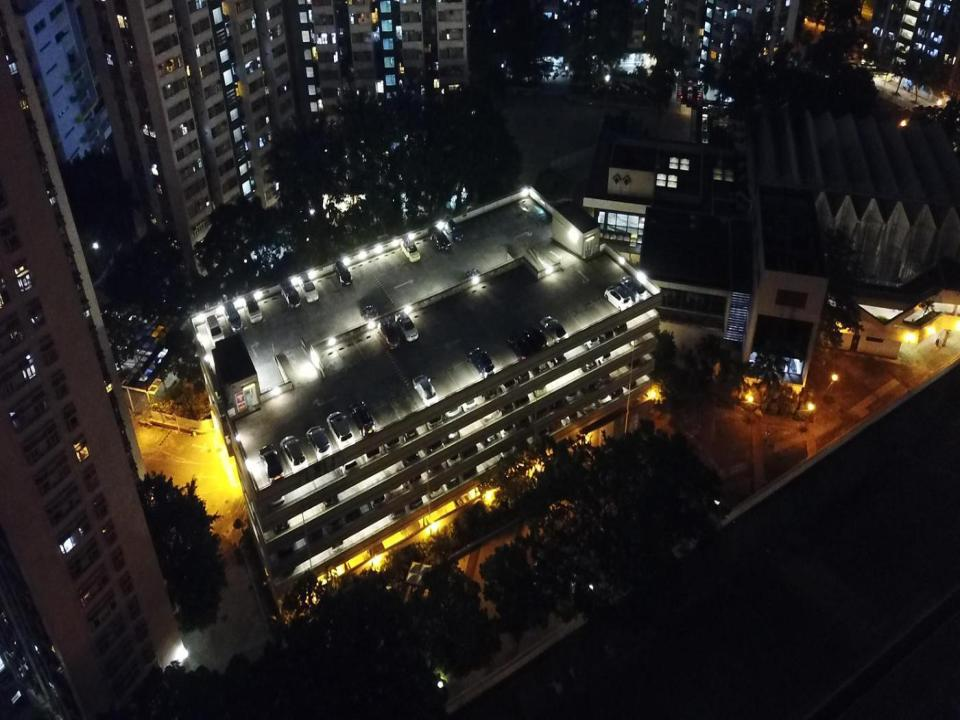car: (325, 410, 355, 450), (279, 434, 308, 474), (305, 424, 334, 462), (349, 399, 377, 438), (258, 443, 284, 483), (467, 346, 497, 378), (412, 373, 438, 408), (539, 314, 568, 344), (603, 284, 633, 312), (620, 274, 648, 303), (394, 310, 419, 342), (377, 318, 401, 350), (279, 276, 302, 308), (522, 323, 548, 351), (507, 333, 532, 361), (442, 392, 462, 426), (361, 432, 382, 464), (421, 403, 444, 431), (421, 431, 444, 458), (338, 448, 359, 477), (322, 506, 343, 535), (366, 481, 387, 510), (428, 226, 452, 251), (381, 423, 401, 453), (496, 368, 518, 395), (243, 292, 262, 323), (530, 349, 551, 377), (400, 414, 418, 445), (579, 325, 600, 351), (400, 443, 421, 469), (270, 509, 290, 536), (334, 259, 353, 287), (303, 519, 324, 544), (424, 454, 445, 479), (460, 385, 478, 414), (404, 484, 423, 511), (424, 478, 445, 502), (266, 488, 286, 513), (548, 343, 567, 369), (385, 475, 404, 501), (440, 422, 460, 446), (595, 318, 614, 343), (275, 534, 294, 559), (480, 423, 499, 448), (326, 533, 345, 557), (458, 455, 477, 479), (458, 435, 477, 459), (441, 466, 459, 491), (578, 352, 599, 373), (444, 219, 464, 241), (609, 312, 627, 336), (343, 499, 361, 523), (388, 497, 406, 521), (512, 386, 530, 410), (404, 468, 423, 490), (322, 487, 340, 510), (442, 445, 460, 468), (514, 361, 530, 386), (512, 410, 530, 432), (581, 373, 599, 395), (594, 366, 612, 388), (580, 393, 597, 416), (596, 344, 612, 368), (496, 418, 515, 438), (625, 327, 644, 347), (496, 395, 514, 416), (546, 389, 564, 410), (563, 381, 579, 404), (608, 378, 624, 401), (596, 387, 613, 408), (531, 376, 547, 398), (530, 401, 548, 420), (562, 405, 578, 426), (497, 440, 515, 458), (533, 419, 549, 439), (621, 370, 637, 390)
van: (297, 271, 319, 304), (222, 300, 244, 332), (204, 314, 225, 346), (400, 235, 421, 263)
